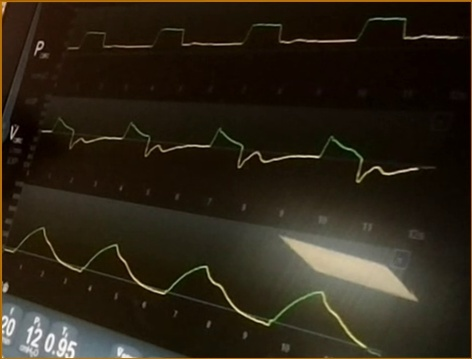Premature_cycling Flow: (42, 113, 422, 183)
Premature_cycling Volume: (7, 224, 369, 347)
